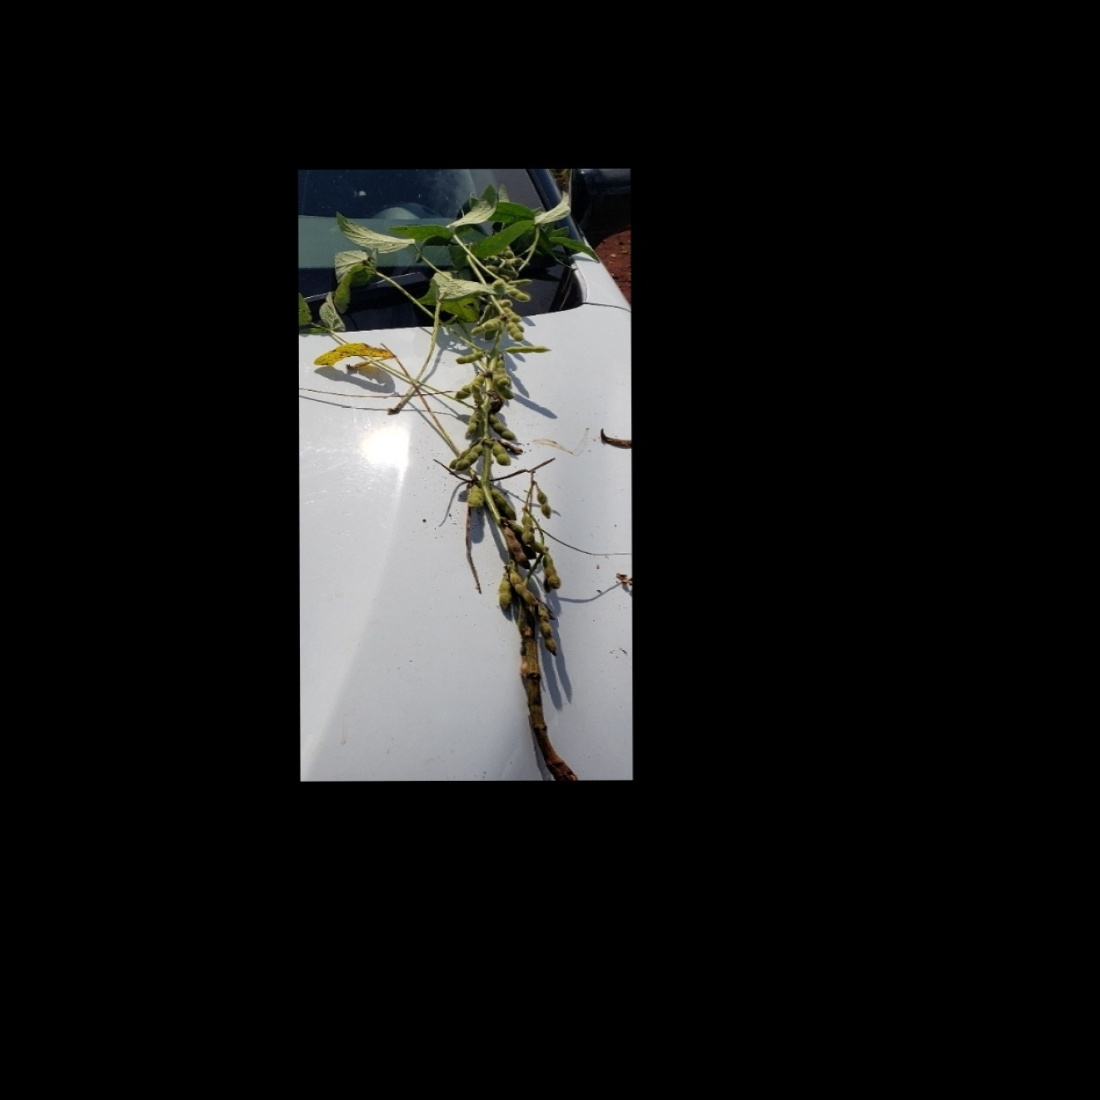pod: (534, 607, 567, 656), (505, 524, 535, 569), (504, 568, 538, 606), (452, 439, 486, 473), (484, 413, 518, 442), (539, 555, 562, 591), (499, 340, 554, 356), (533, 484, 554, 521), (491, 439, 514, 470), (463, 482, 489, 510), (495, 580, 515, 611), (452, 348, 487, 365), (502, 319, 526, 343), (504, 286, 533, 303)
soy: (323, 188, 614, 770)
